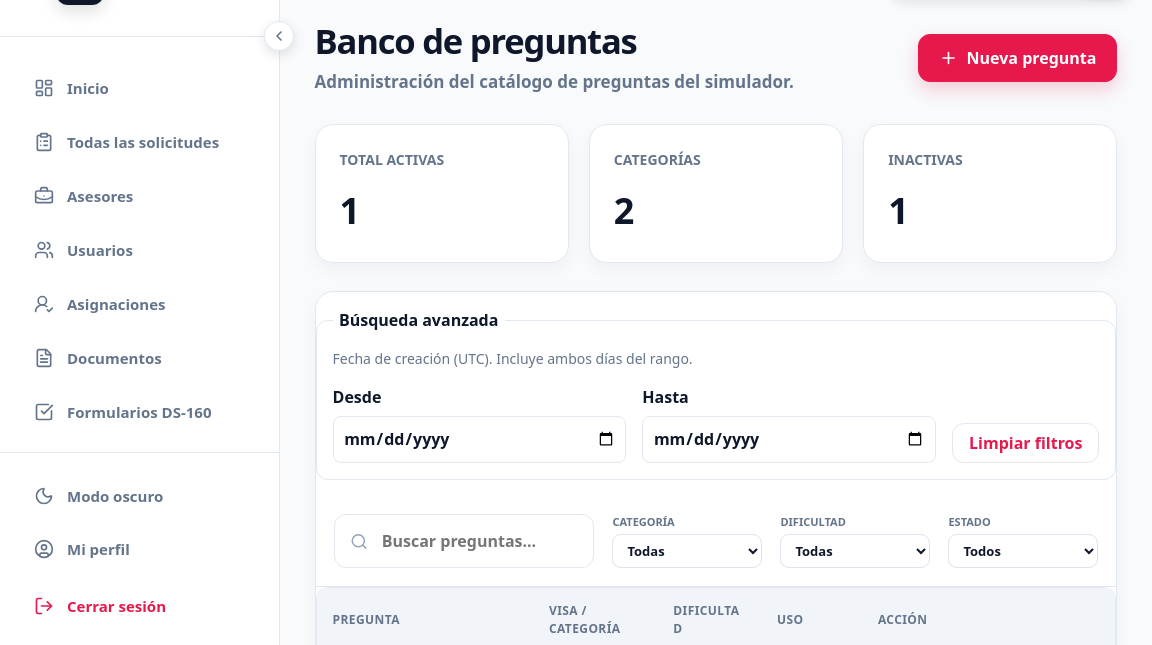
Test: panel de administracion › permite filtrar y desactivar preguntas desde el panel
Select "Activas" in the dropdown labelled "Estado" at (1024, 551), box [948,534,1098,568]
(page scrolled)
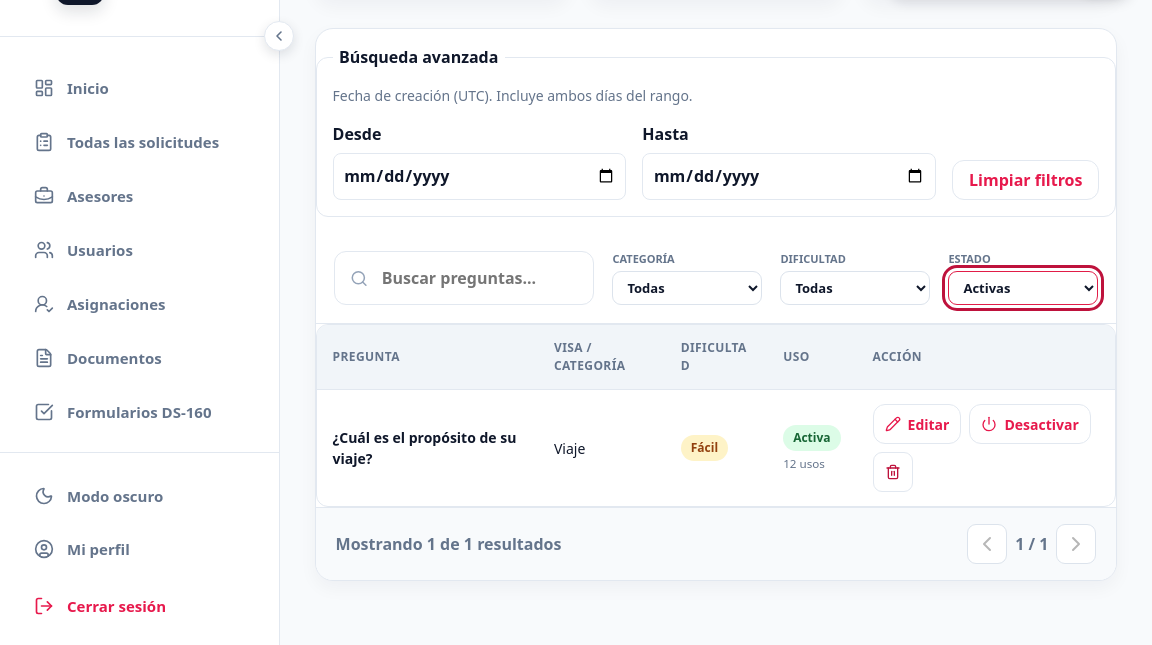
Click the button "Desactivar" at (1030, 424), box [969,404,1091,444]
(page scrolled)
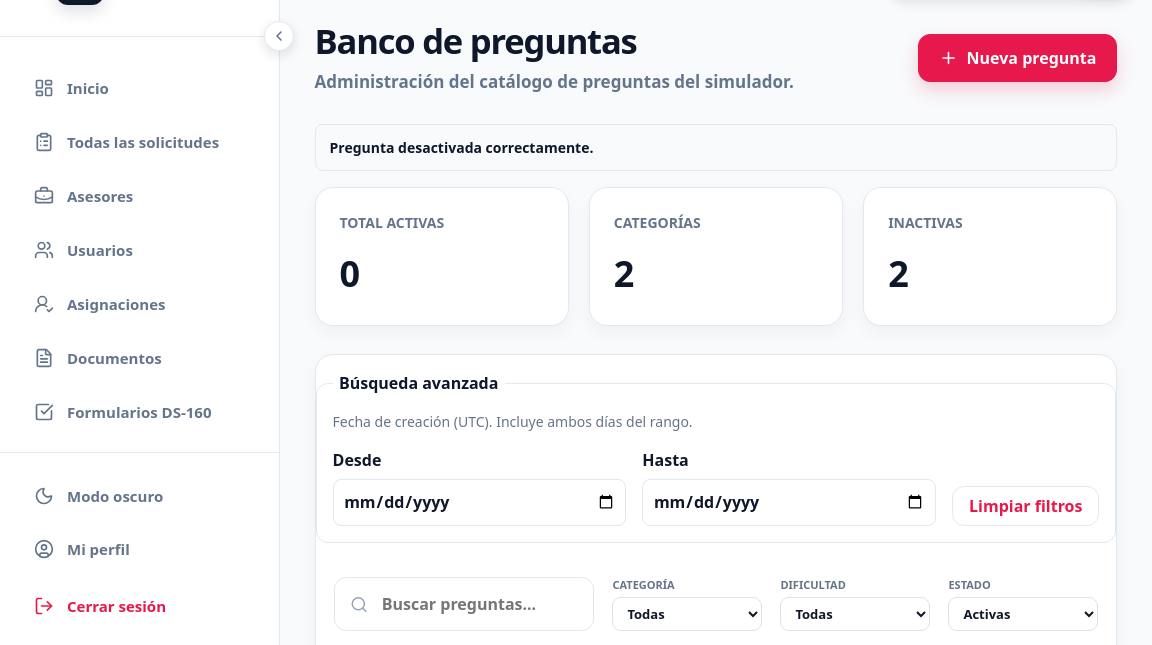
Result: the text "Pregunta desactivada correctamente." is shown at [314,124,1117,171]
